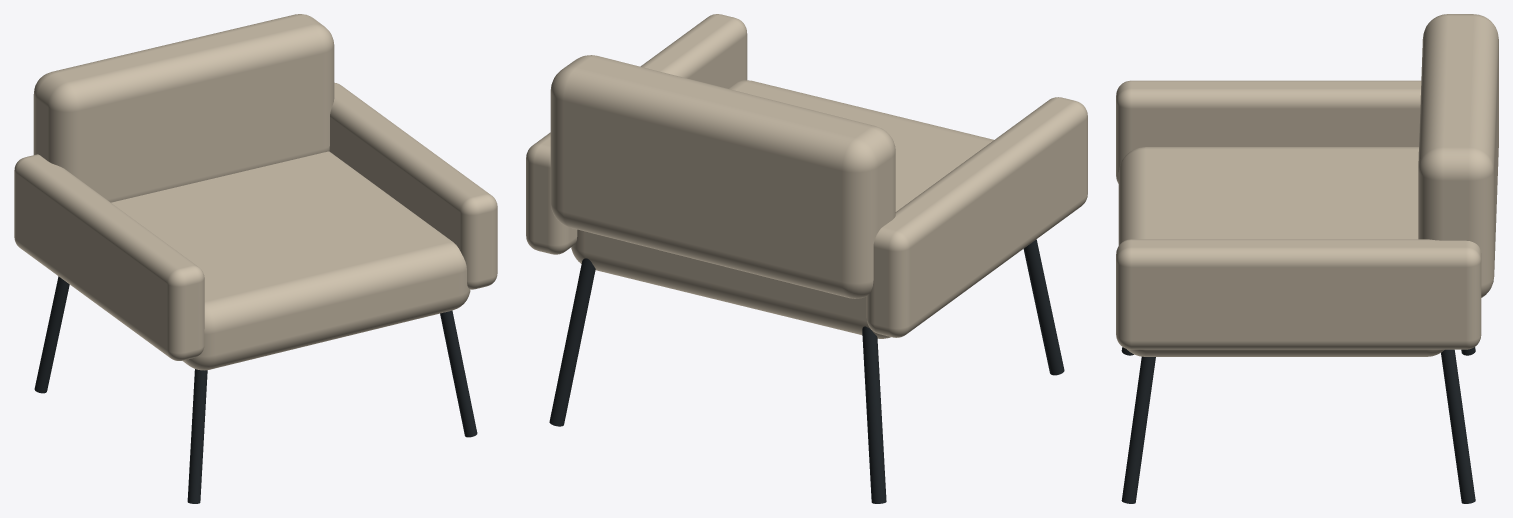
The model's file is armchair-3.glb.
The picture shows the model from 3 angles, left to right: view 1: azimuth 30°, elevation 25°; view 2: azimuth 150°, elevation 25°; view 3: azimuth 270°, elevation 25°; orthographic projection. The views are drawn at different scales.
Parts seen in each view (by area): view 1: armchair:3:archviz; view 2: armchair:3:archviz; view 3: armchair:3:archviz.
Boxes of the visible parts, <box> form: armchair:3:archviz: <box>14,14,497,503</box>; armchair:3:archviz: <box>526,14,1087,503</box>; armchair:3:archviz: <box>1116,14,1498,503</box>.
Size of the model in its own units: 0.83 by 0.7527 by 0.7546.
